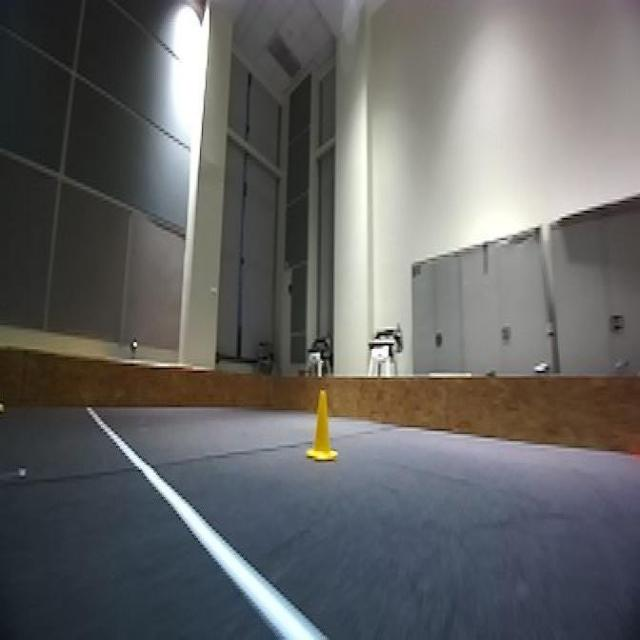frc_cone: (308, 390, 340, 460)
